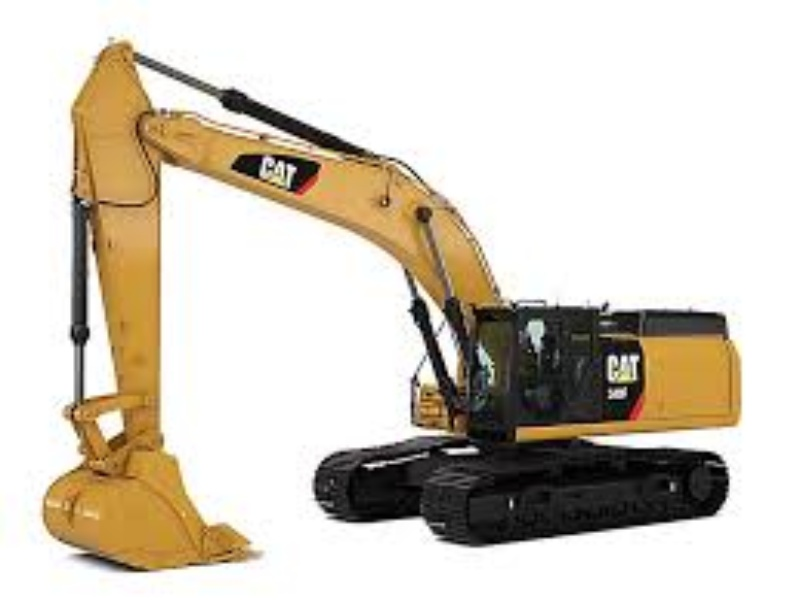wajueji: (245, 193, 791, 600)
